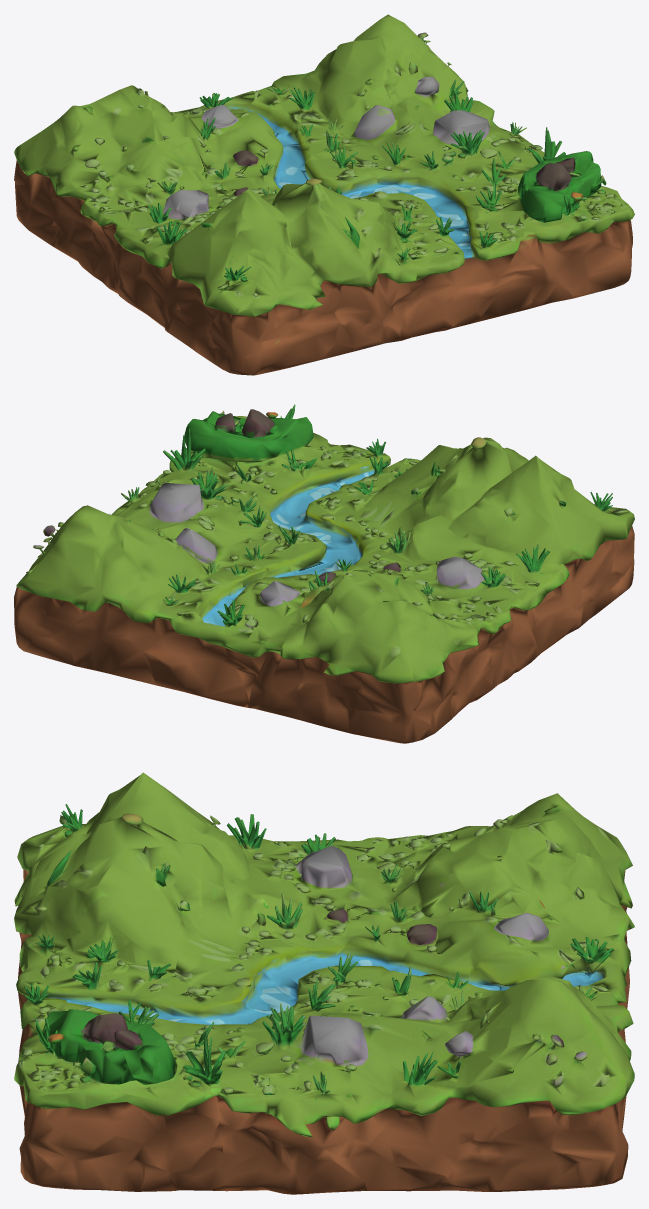
The model's file is terrain-diorama.glb.
The picture shows the model from 3 angles, top to bottom: view 1: azimuth 30°, elevation 25°; view 2: azimuth 150°, elevation 25°; view 3: azimuth 270°, elevation 25°; orthographic projection. The views are drawn at different scales.
Visible parts, largest first — view 1: tripo_node_da4aafe3-56d9-4f9f-9e5a-dcfcf304b90f; view 2: tripo_node_da4aafe3-56d9-4f9f-9e5a-dcfcf304b90f; view 3: tripo_node_da4aafe3-56d9-4f9f-9e5a-dcfcf304b90f.
Part boxes in pixels (x1=…): tripo_node_da4aafe3-56d9-4f9f-9e5a-dcfcf304b90f: x1=14, y1=14, x2=634, y2=375; tripo_node_da4aafe3-56d9-4f9f-9e5a-dcfcf304b90f: x1=14, y1=404, x2=634, y2=743; tripo_node_da4aafe3-56d9-4f9f-9e5a-dcfcf304b90f: x1=14, y1=772, x2=634, y2=1194.
Size of the model in its own units: 0.979 by 0.3368 by 0.9382.
1 material, 1 textured.
